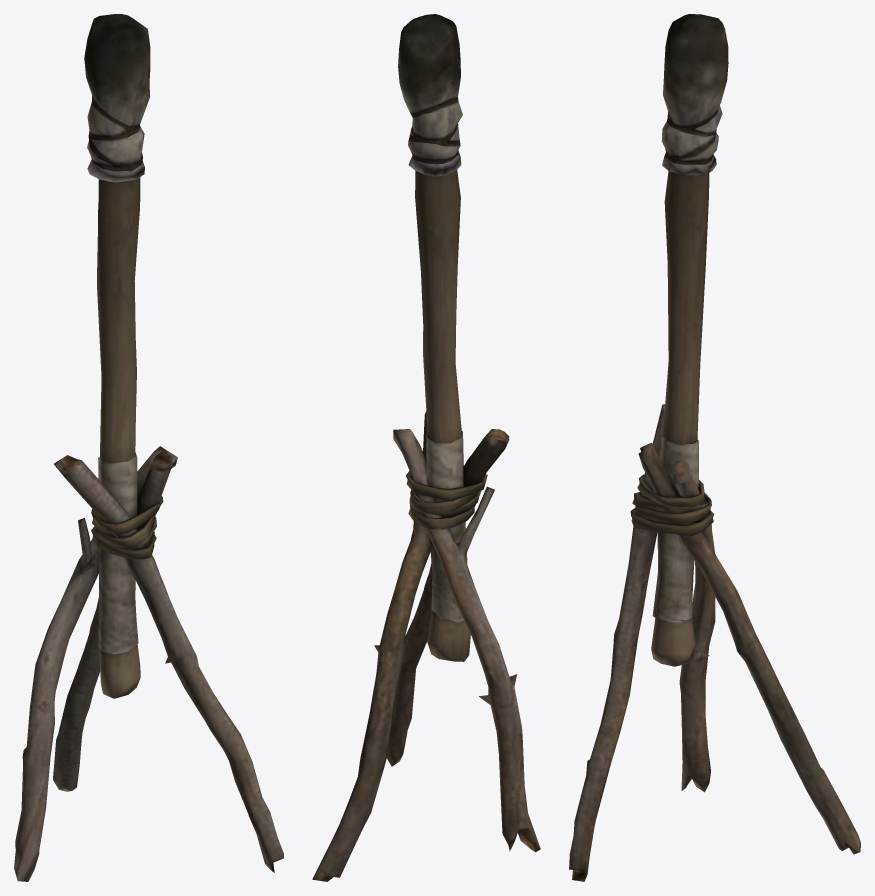
The model's file is SM_TorchStand_9a8d32.glb.
3 renders of one model, left to right at view 1: azimuth 30°, elevation 25°; view 2: azimuth 150°, elevation 25°; view 3: azimuth 270°, elevation 25°, orthographic. The views are drawn at different scales.
Size of the model in its own units: 0.3046 by 1.15 by 0.3698.
Materials: 1 (1 with a texture image).
